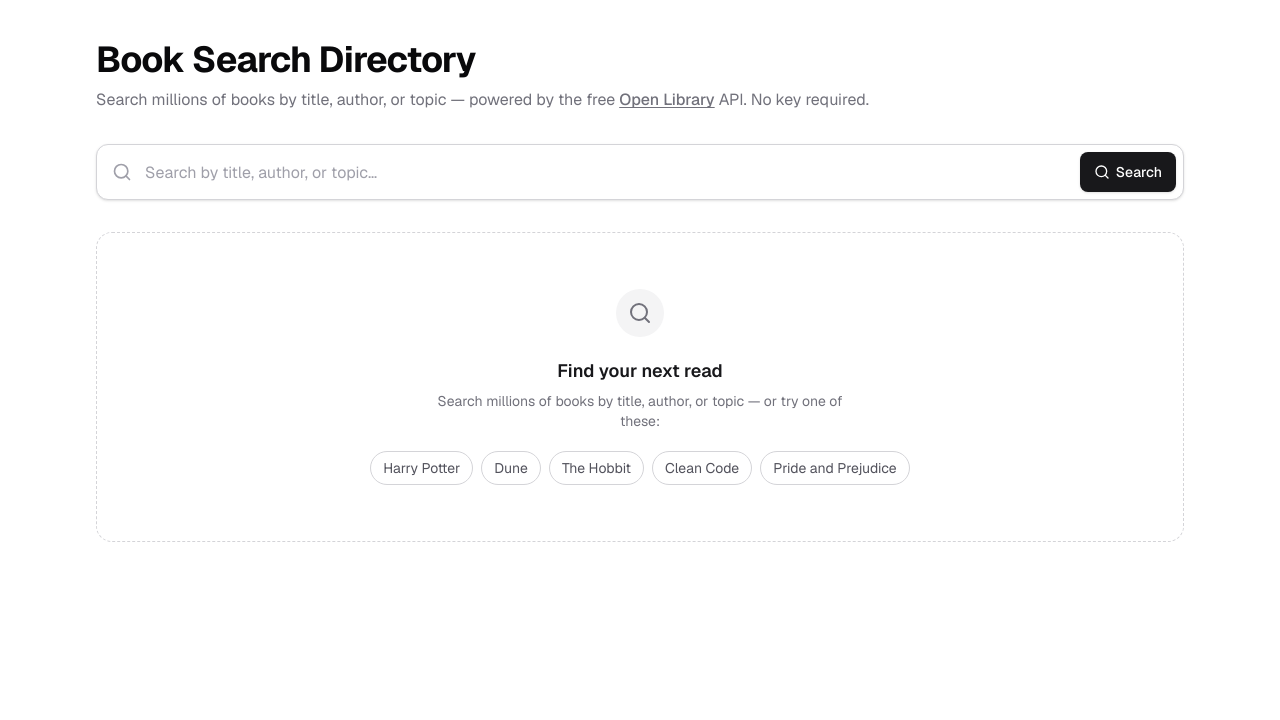
SearchDirectory › picking a suggestion chip searches immediately
Click the button "Dune": (511, 468) [481,451,541,485]
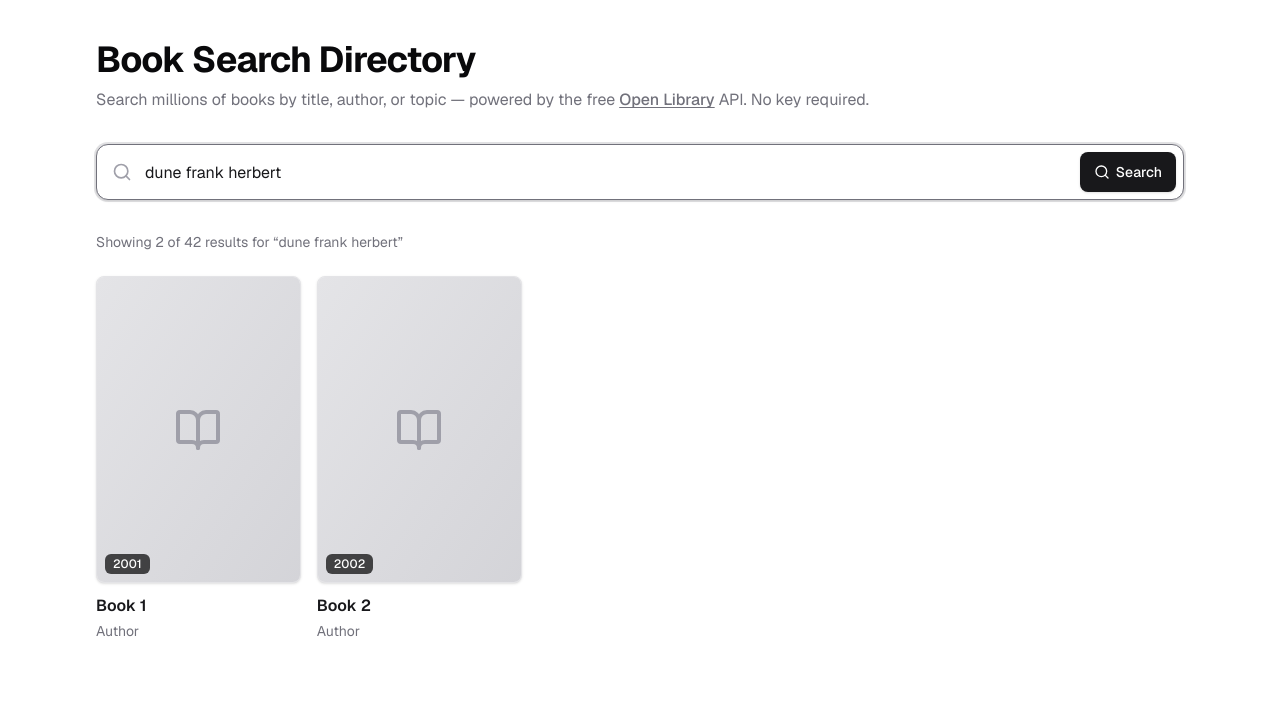
Expected: the heading "Book 1" is shown, [96,595,147,616]
